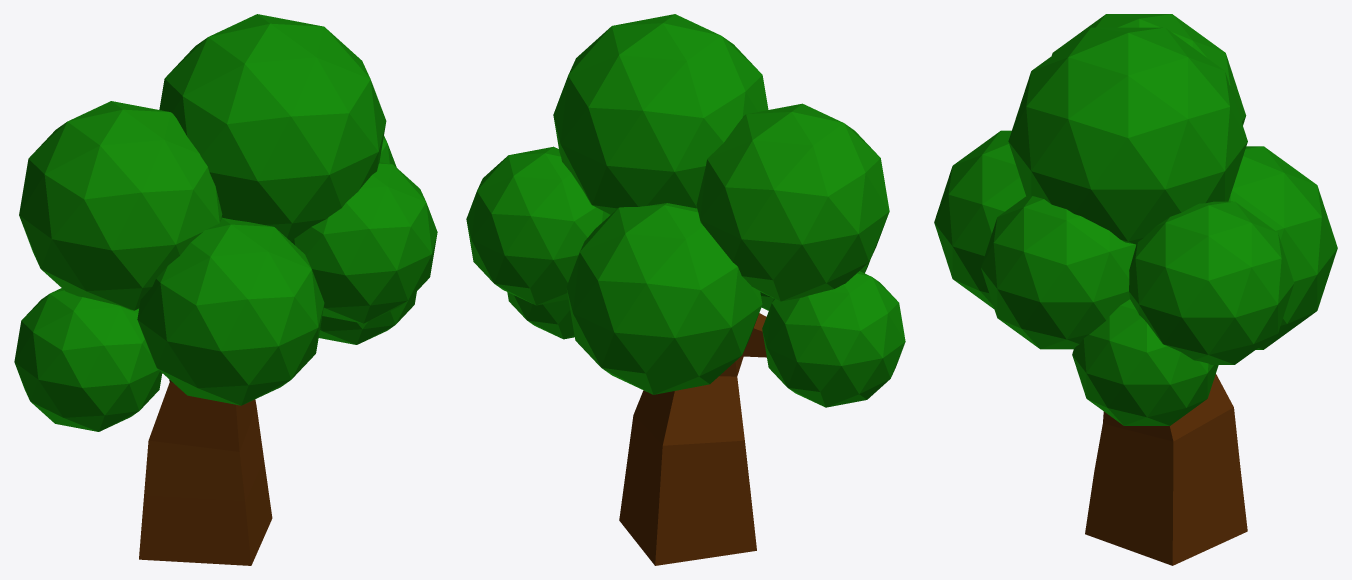
Rendered from tree.fbx.
3 views of the same model, side by side, from view 1: azimuth 30°, elevation 25°; view 2: azimuth 150°, elevation 25°; view 3: azimuth 270°, elevation 25° (orthographic). The views are drawn at different scales.
Parts seen in each view (by area): view 1: Icosphere.004, Icosphere.001, Icosphere.005, Cube, Icosphere, Icosphere.002, Icosphere.003; view 2: Icosphere.004, Icosphere.001, Icosphere.007, Cube, Icosphere.006, Icosphere, Icosphere.003; view 3: Icosphere.004, Cube, Icosphere.006, Icosphere.002, Icosphere.003, Icosphere.007, Icosphere.005, Icosphere.001.
Boxes of the visible parts, x1,y1,x2,y2 form: Icosphere.004: [159, 14, 386, 241]; Icosphere.001: [19, 101, 222, 310]; Icosphere.005: [137, 217, 324, 405]; Cube: [139, 373, 272, 565]; Icosphere: [14, 288, 162, 431]; Icosphere.002: [291, 162, 437, 323]; Icosphere.003: [318, 291, 416, 344]; Icosphere.004: [553, 14, 768, 214]; Icosphere.001: [696, 103, 889, 301]; Icosphere.007: [566, 203, 762, 394]; Cube: [619, 313, 766, 565]; Icosphere.006: [466, 146, 609, 305]; Icosphere: [762, 271, 905, 407]; Icosphere.003: [507, 292, 574, 339]; Icosphere.004: [1008, 27, 1247, 244]; Cube: [1085, 374, 1247, 565]; Icosphere.006: [1129, 201, 1294, 364]; Icosphere.002: [981, 195, 1135, 349]; Icosphere.003: [1072, 299, 1218, 425]; Icosphere.007: [1228, 146, 1337, 349]; Icosphere.005: [934, 130, 1025, 308]; Icosphere.001: [1051, 14, 1246, 125].
Size of the model in its own units: 483 by 599 by 419.
